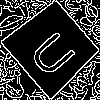U: (26, 23, 86, 80)
